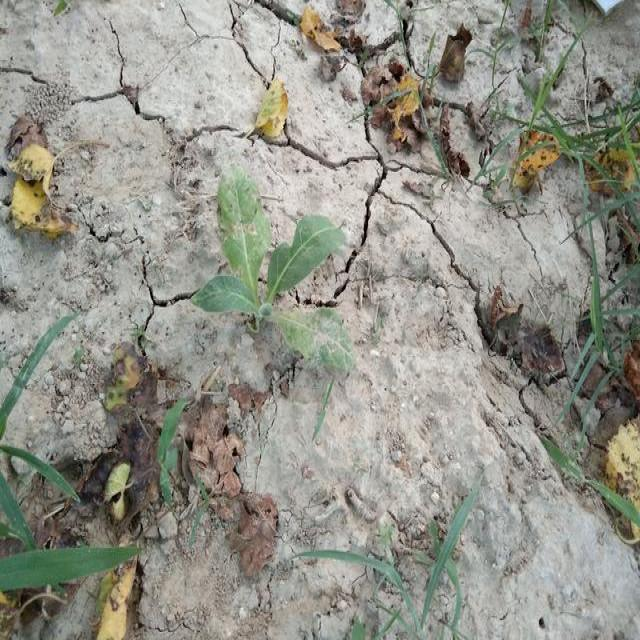crop: (198, 175, 358, 367)
